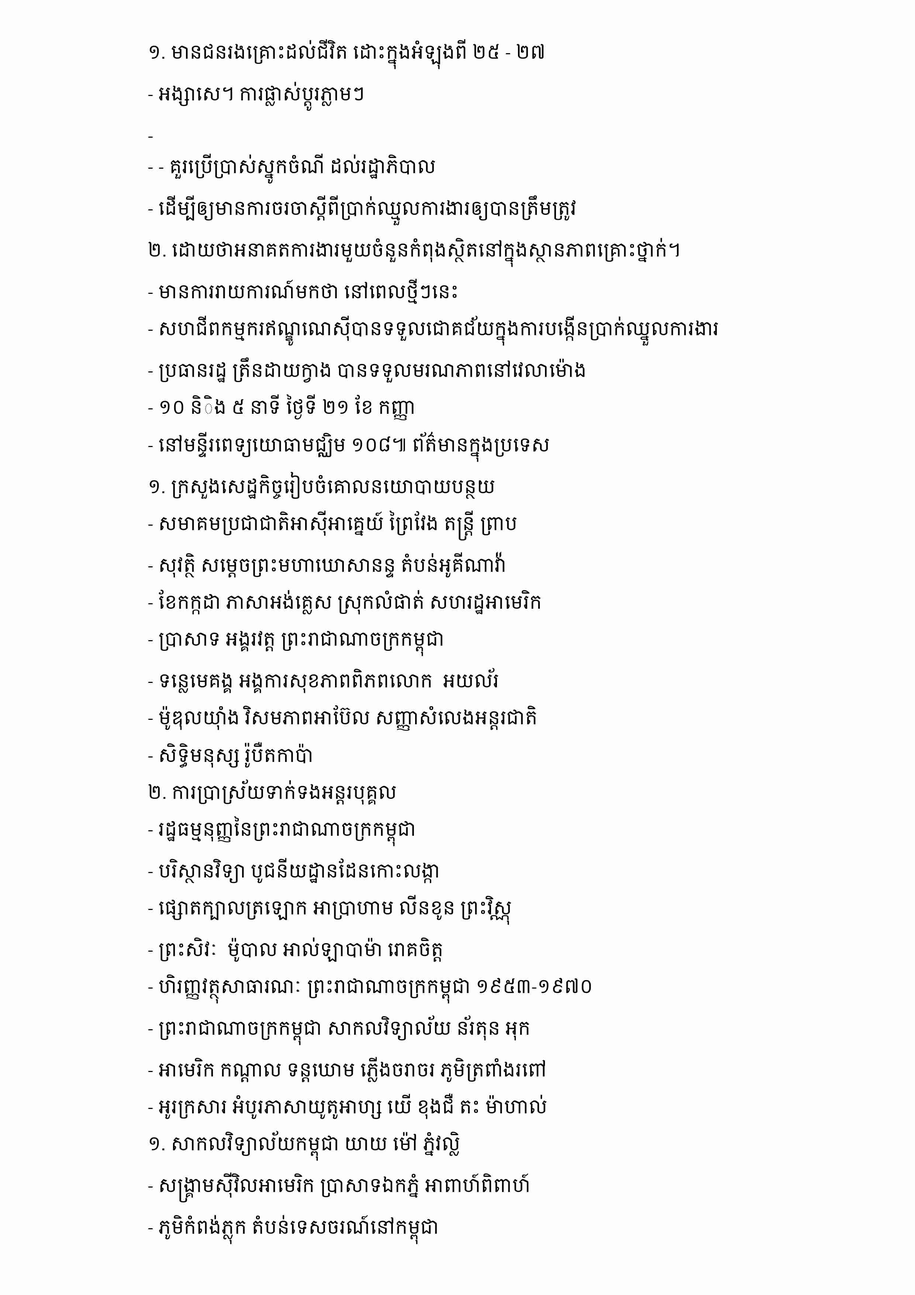text: (148, 316, 724, 346), (148, 238, 686, 267), (148, 974, 598, 1004), (148, 195, 581, 226), (148, 432, 555, 462), (148, 39, 550, 69), (148, 1172, 535, 1203), (148, 1015, 535, 1045), (148, 357, 591, 383), (148, 511, 522, 541), (148, 895, 517, 925), (148, 1093, 552, 1119), (148, 705, 542, 731), (148, 1057, 552, 1082), (148, 590, 547, 615), (148, 1131, 465, 1161), (148, 472, 500, 499), (148, 552, 512, 578), (148, 668, 504, 693), (148, 154, 441, 184), (148, 1215, 444, 1244), (148, 816, 421, 846), (148, 279, 463, 304), (148, 631, 449, 656), (148, 937, 449, 962), (148, 858, 445, 883), (148, 394, 421, 420), (148, 779, 402, 805), (148, 82, 370, 111), (148, 742, 318, 768), (148, 137, 158, 142)
